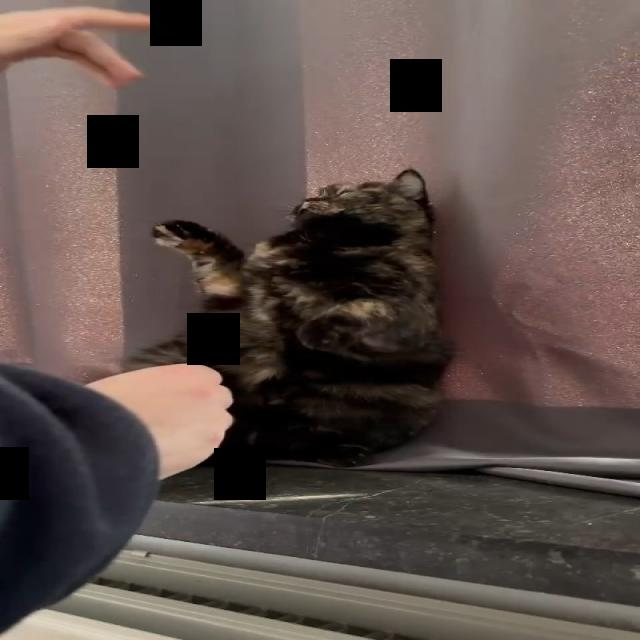authorized: (116, 167, 457, 468)
